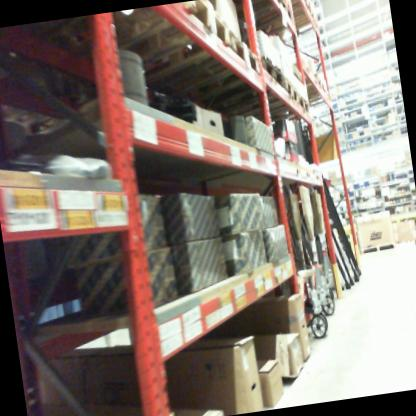pallet: (59, 26, 266, 118), (42, 0, 236, 93), (172, 49, 288, 107), (197, 93, 311, 129), (274, 72, 303, 105), (357, 239, 395, 257)
pallet_truck: (259, 185, 320, 334), (282, 182, 333, 337), (304, 183, 341, 322)
